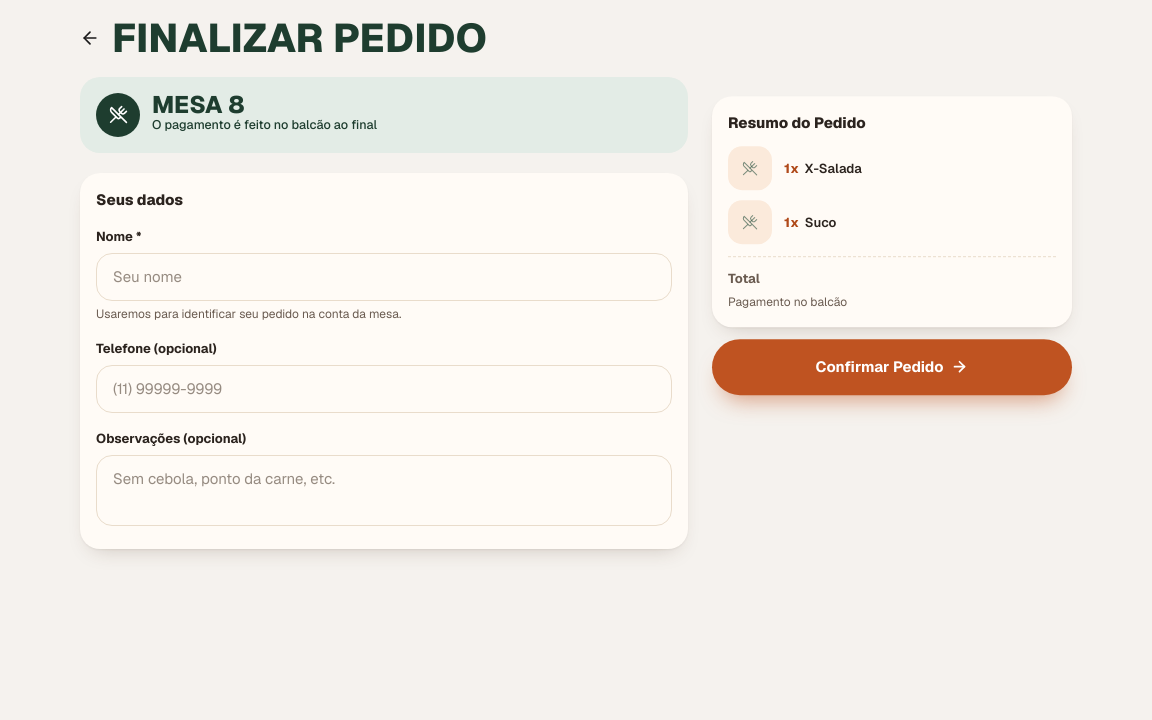
Test: quando o servidor recusa o pedido › item indisponível sai do carrinho e o cliente fica sabendo qual
The width and height of the screenshot is (1152, 720).
Type "Ana" into the field with placeholder "Seu nome".
click(384, 277); type("Ana")  # box [96,253,672,301]
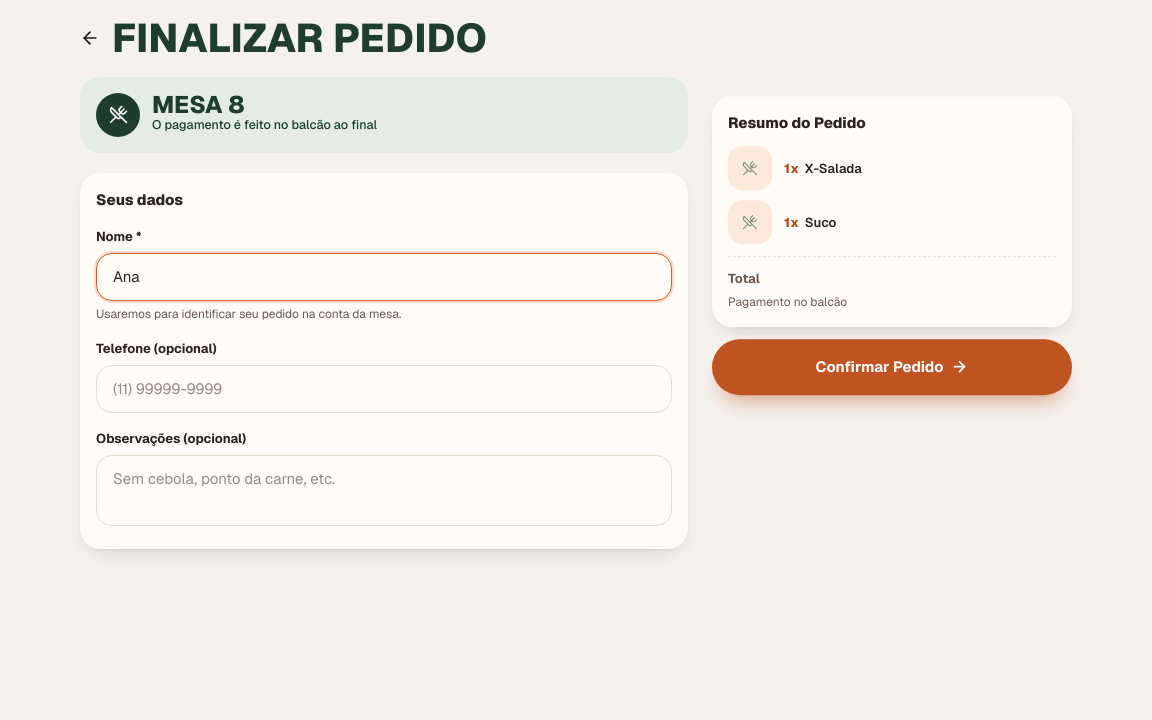
Click the button "Confirmar Pedido".
click(892, 367)  # box [712,339,1072,395]
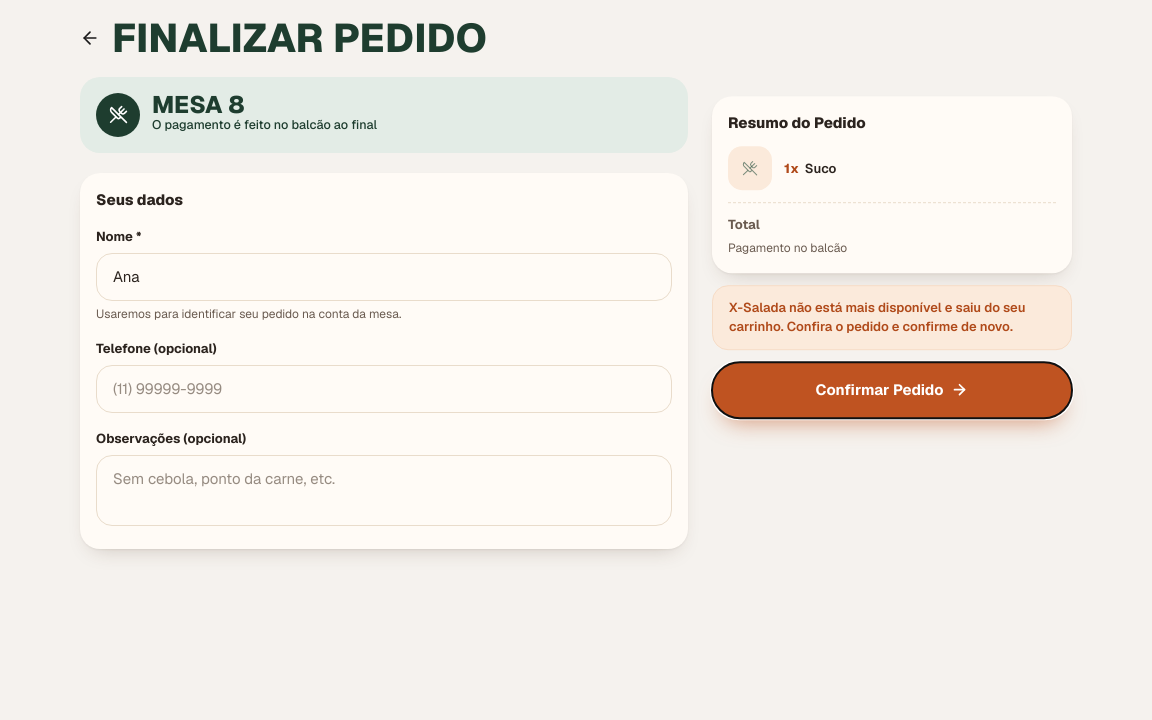
Expected: the text "X-Salada não está mais disponível e saiu do seu carrinho" is shown, [729,299,1025,336]
